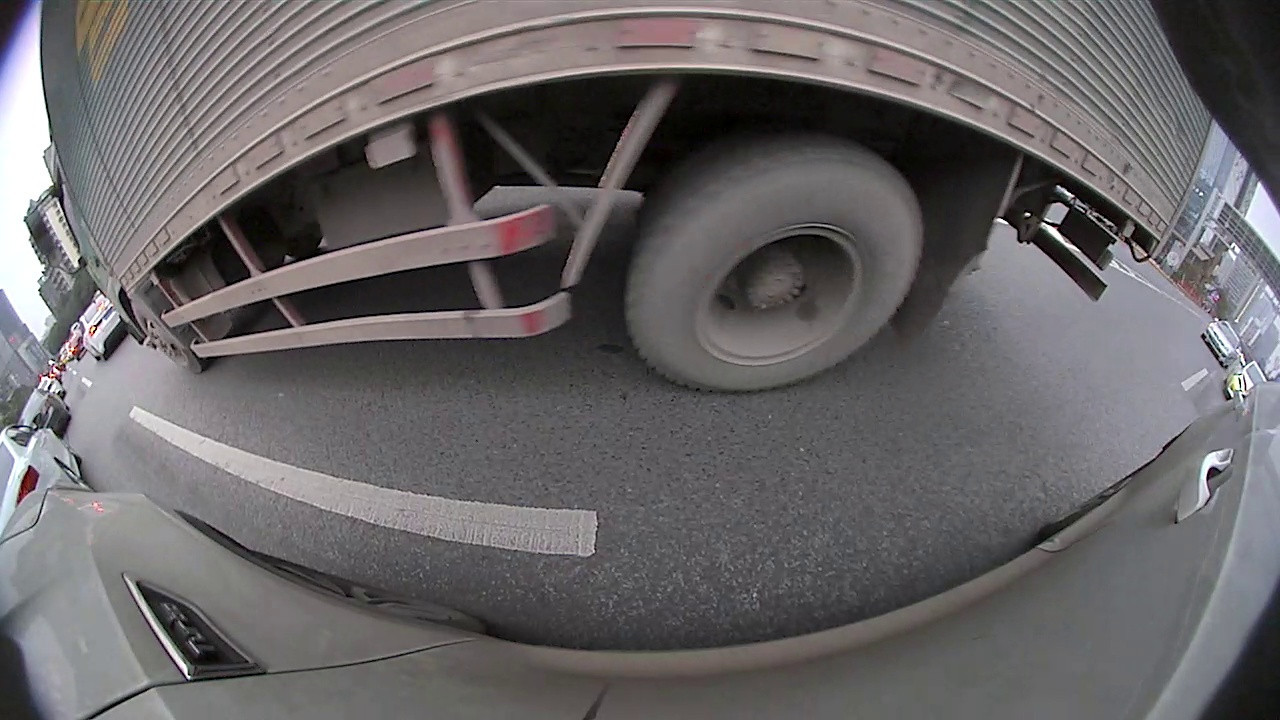car: (3, 427, 87, 536), (79, 297, 131, 361), (17, 391, 71, 440), (1202, 320, 1242, 368), (1226, 363, 1266, 401)
front: (133, 297, 202, 373)
rear: (627, 137, 926, 395)
truck: (39, 3, 1213, 397)
